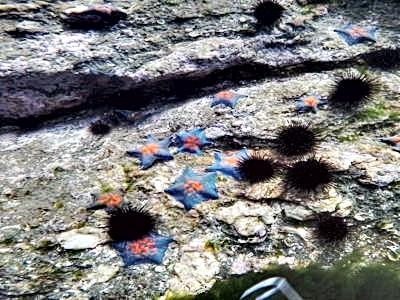urchin: (104, 208, 148, 236), (286, 160, 325, 190), (279, 125, 314, 151), (335, 75, 364, 103), (240, 154, 270, 180), (319, 215, 346, 243), (255, 2, 282, 24), (90, 120, 113, 135)
